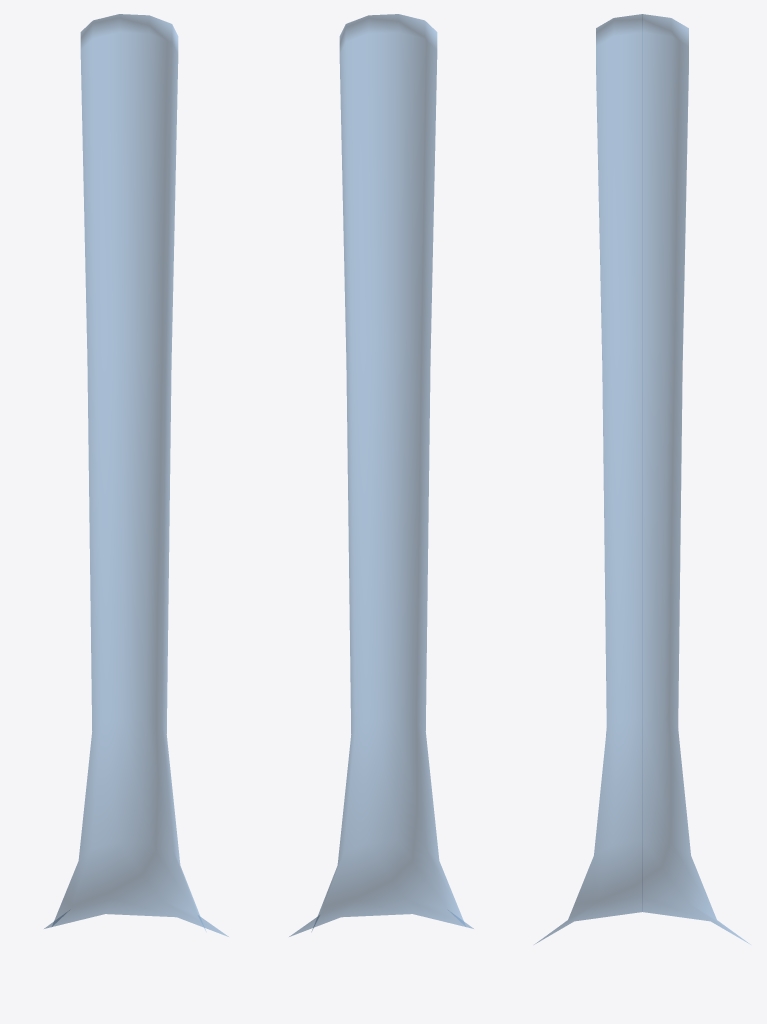
The model's file is tap_water.glb.
The picture shows the model from 3 angles, left to right: view 1: azimuth 30°, elevation 25°; view 2: azimuth 150°, elevation 25°; view 3: azimuth 270°, elevation 25°; orthographic projection.
Visible parts, largest first — view 1: TapWater; view 2: TapWater; view 3: TapWater.
Part boxes in pixels (x1,y1,x2,y2): TapWater: (44,14,228,936); TapWater: (289,14,473,936); TapWater: (534,14,750,944).
Size of the model in its own units: 0.034 by 0.15 by 0.0323.
